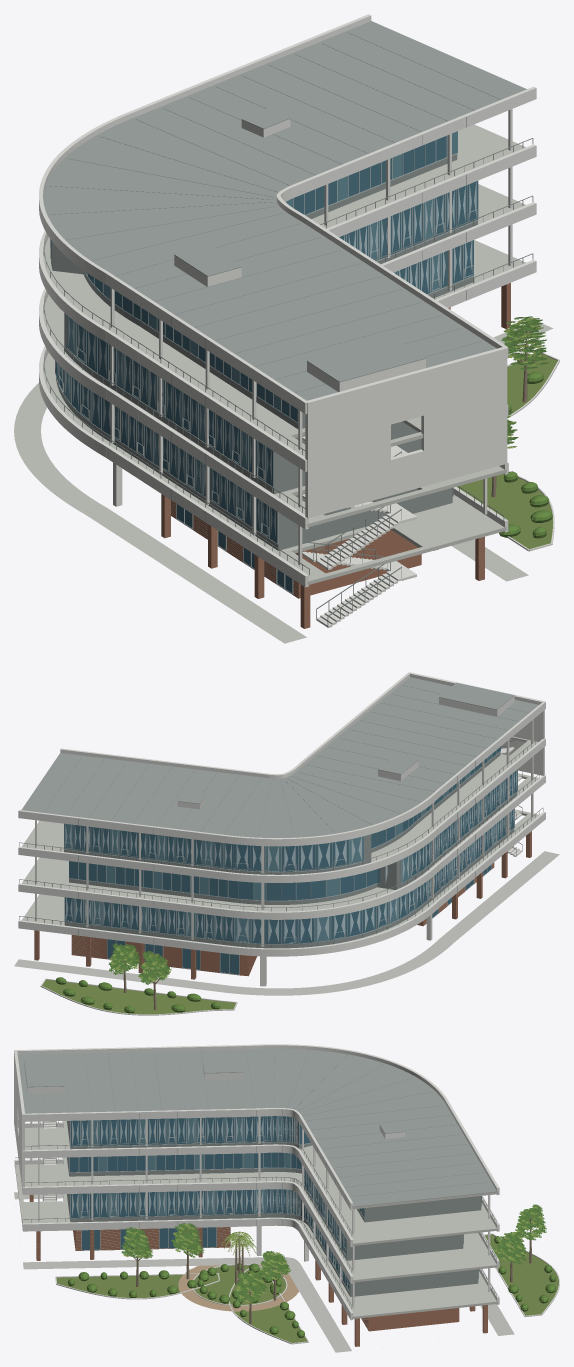
The model's file is activity-lod0.glb.
3 renders of one model, top to bottom at view 1: azimuth 30°, elevation 25°; view 2: azimuth 150°, elevation 25°; view 3: azimuth 270°, elevation 25°, orthographic. The views are drawn at different scales.
Parts seen in each view (by area): view 1: roof membrane | roof, continuous curved bands | white warm ceramic, exterior gallery floors | pale paving, upper end wall with square opening | white warm ceramic, upper curtain walls | blue glazing, enclosed floor shadow | reveal shadow, site perimeter paving | pale paving, elongated frosted glass motifs | frosted diamonds, window frames | window metal, brick ground rooms and piers | brick, upper curtain walls | blue glazing light, connected planted lawns | lawn (+6 smaller); view 2: roof membrane | roof, continuous curved bands | white warm ceramic, upper curtain walls | blue glazing, exterior gallery floors | pale paving, elongated frosted glass motifs | frosted diamonds, window frames | window metal, enclosed floor shadow | reveal shadow, site perimeter paving | pale paving, upper curtain walls | blue glazing light, brick ground rooms and piers | brick, connected planted lawns | lawn, gallery railings | rail (+7 smaller); view 3: roof membrane | roof, continuous curved bands | white warm ceramic, exterior gallery floors | pale paving, upper curtain walls | blue glazing, enclosed floor shadow | reveal shadow, connected planted lawns | lawn, elongated frosted glass motifs | frosted diamonds, window frames | window metal, site perimeter paving | pale paving, layered leaf canopy | leaf shadow, brick ground rooms and piers | brick, upper curtain walls | blue glazing light (+10 smaller).
Part boxes in pixels (<box>): roof membrane | roof: <box>43,21,526,400</box>; continuous curved bands | white warm ceramic: <box>39,14,536,587</box>; exterior gallery floors | pale paving: <box>43,124,525,585</box>; upper end wall with square opening | white warm ceramic: <box>305,346,507,518</box>; upper curtain walls | blue glazing: <box>51,136,478,543</box>; enclosed floor shadow | reveal shadow: <box>51,154,477,550</box>; site perimeter paving | pale paving: <box>14,322,553,643</box>; elongated frosted glass motifs | frosted diamonds: <box>50,181,476,538</box>; window frames | window metal: <box>50,135,478,594</box>; brick ground rooms and piers | brick: <box>161,283,510,628</box>; upper curtain walls | blue glazing light: <box>64,131,457,521</box>; connected planted lawns | lawn: <box>456,354,557,549</box>; roof membrane | roof: <box>21,677,538,837</box>; continuous curved bands | white warm ceramic: <box>18,672,545,986</box>; upper curtain walls | blue glazing: <box>64,747,517,943</box>; exterior gallery floors | pale paving: <box>21,736,539,947</box>; elongated frosted glass motifs | frosted diamonds: <box>65,770,516,942</box>; window frames | window metal: <box>63,746,517,974</box>; enclosed floor shadow | reveal shadow: <box>64,752,517,948</box>; site perimeter paving | pale paving: <box>14,851,559,995</box>; upper curtain walls | blue glazing light: <box>64,754,504,943</box>; brick ground rooms and piers | brick: <box>34,831,531,979</box>; connected planted lawns | lawn: <box>42,979,235,1014</box>; gallery railings | rail: <box>19,735,543,948</box>; roof membrane | roof: <box>17,1048,497,1207</box>; continuous curved bands | white warm ceramic: <box>14,1044,499,1320</box>; exterior gallery floors | pale paving: <box>15,1118,498,1318</box>; upper curtain walls | blue glazing: <box>69,1116,478,1291</box>; enclosed floor shadow | reveal shadow: <box>67,1121,481,1296</box>; connected planted lawns | lawn: <box>56,1234,558,1342</box>; elongated frosted glass motifs | frosted diamonds: <box>72,1116,349,1283</box>; window frames | window metal: <box>69,1116,481,1292</box>; site perimeter paving | pale paving: <box>14,1192,514,1352</box>; layered leaf canopy | leaf shadow: <box>121,1204,546,1302</box>; brick ground rooms and piers | brick: <box>29,1194,487,1346</box>; upper curtain walls | blue glazing light: <box>90,1116,481,1277</box>.
Bounding box in the file's own units: 51.09 × 21.97 × 70.37.
